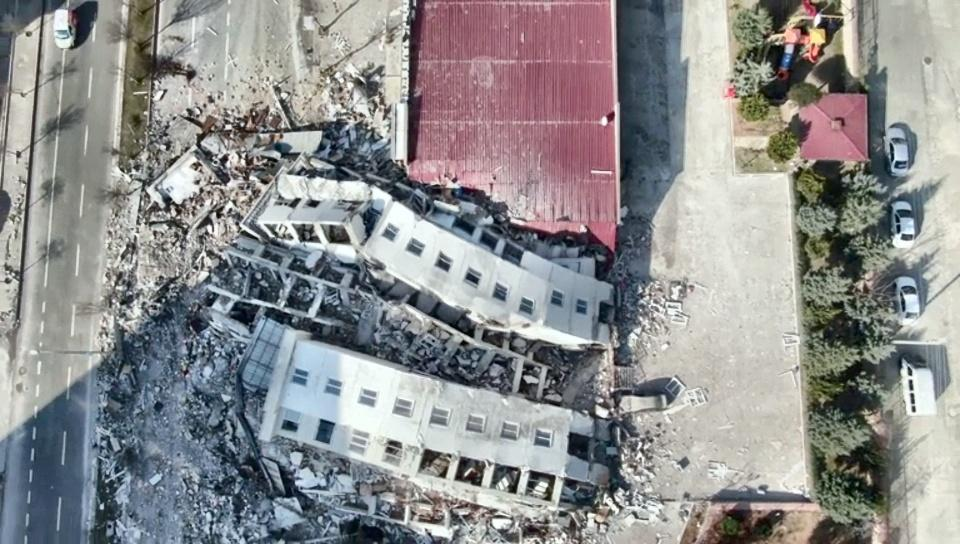kapali: (120, 28, 291, 543)
